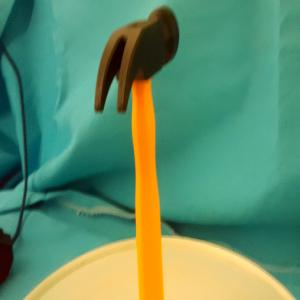martelo: (93, 3, 181, 300)
